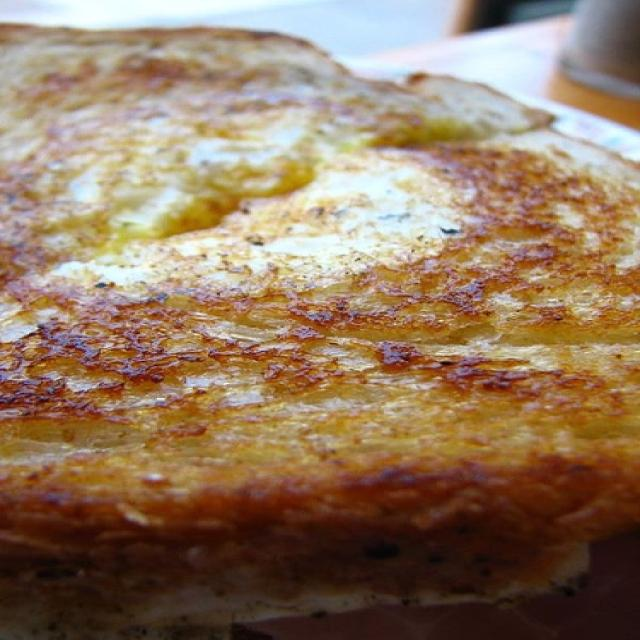面包点心: (5, 16, 630, 618)
